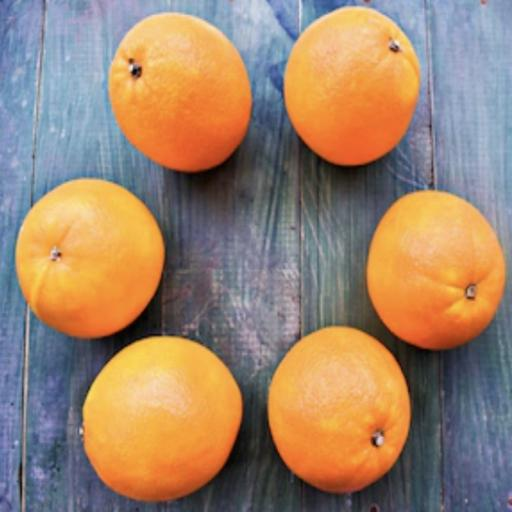orange: (83, 337, 242, 501), (268, 327, 411, 492), (16, 179, 164, 338), (109, 13, 251, 172), (368, 191, 505, 349), (285, 7, 420, 166)
